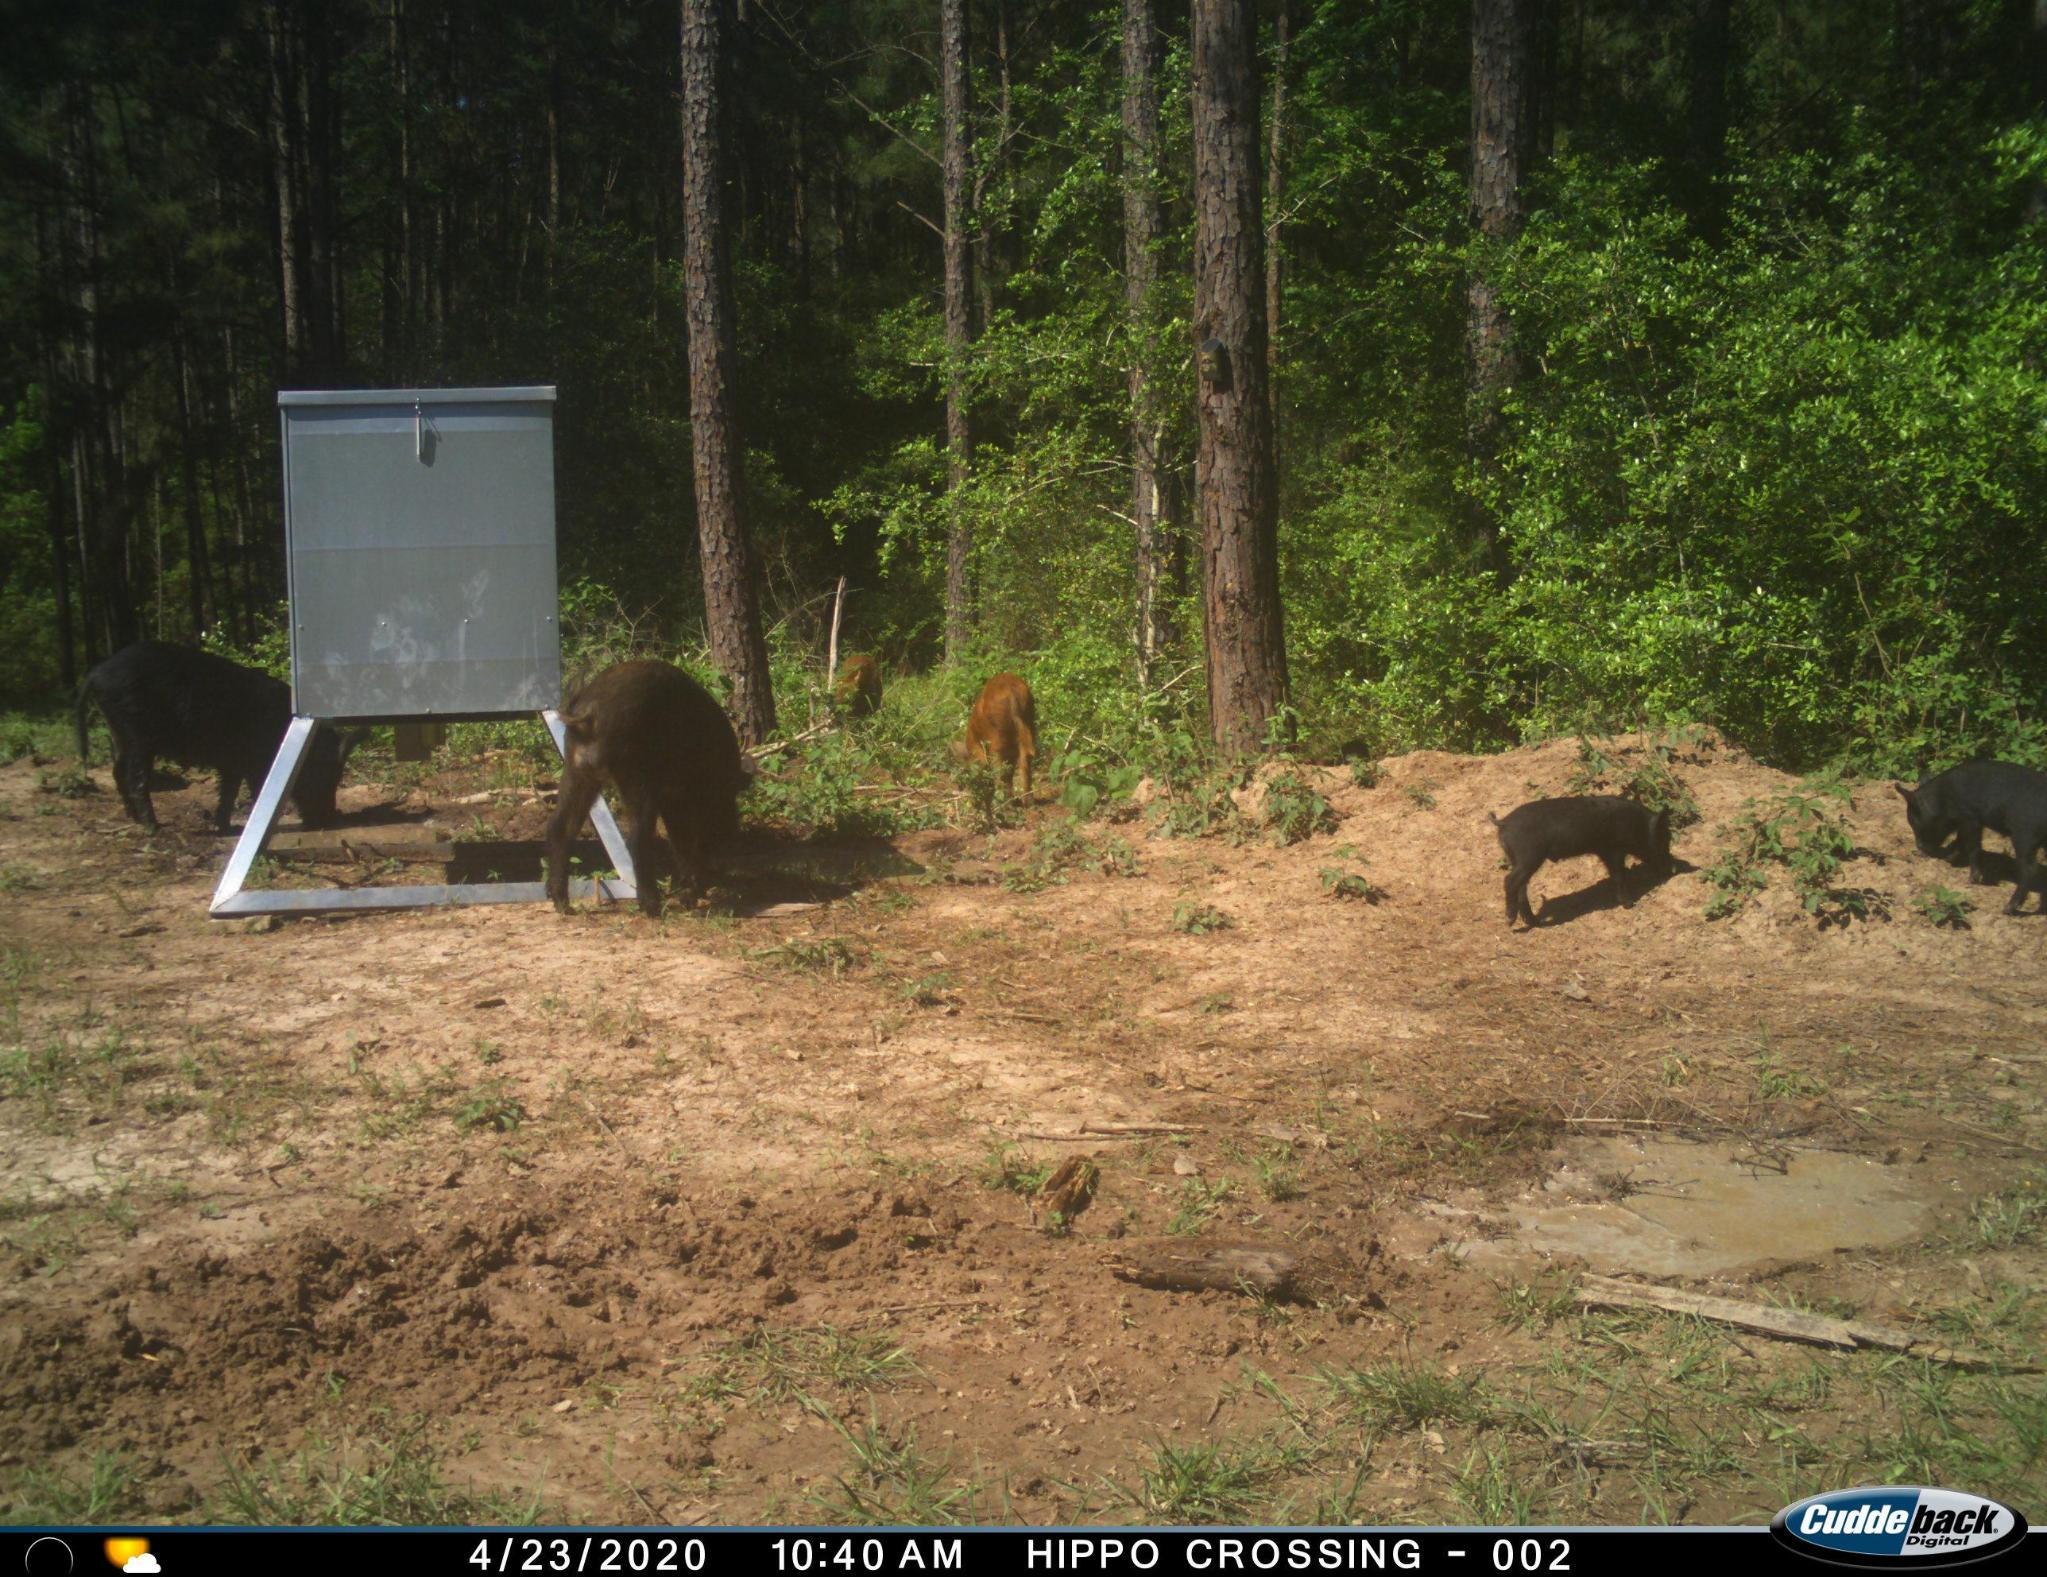Hog: (68, 636, 363, 843), (535, 653, 763, 911), (1482, 782, 1684, 938), (1893, 752, 2047, 916), (956, 663, 1062, 823)
